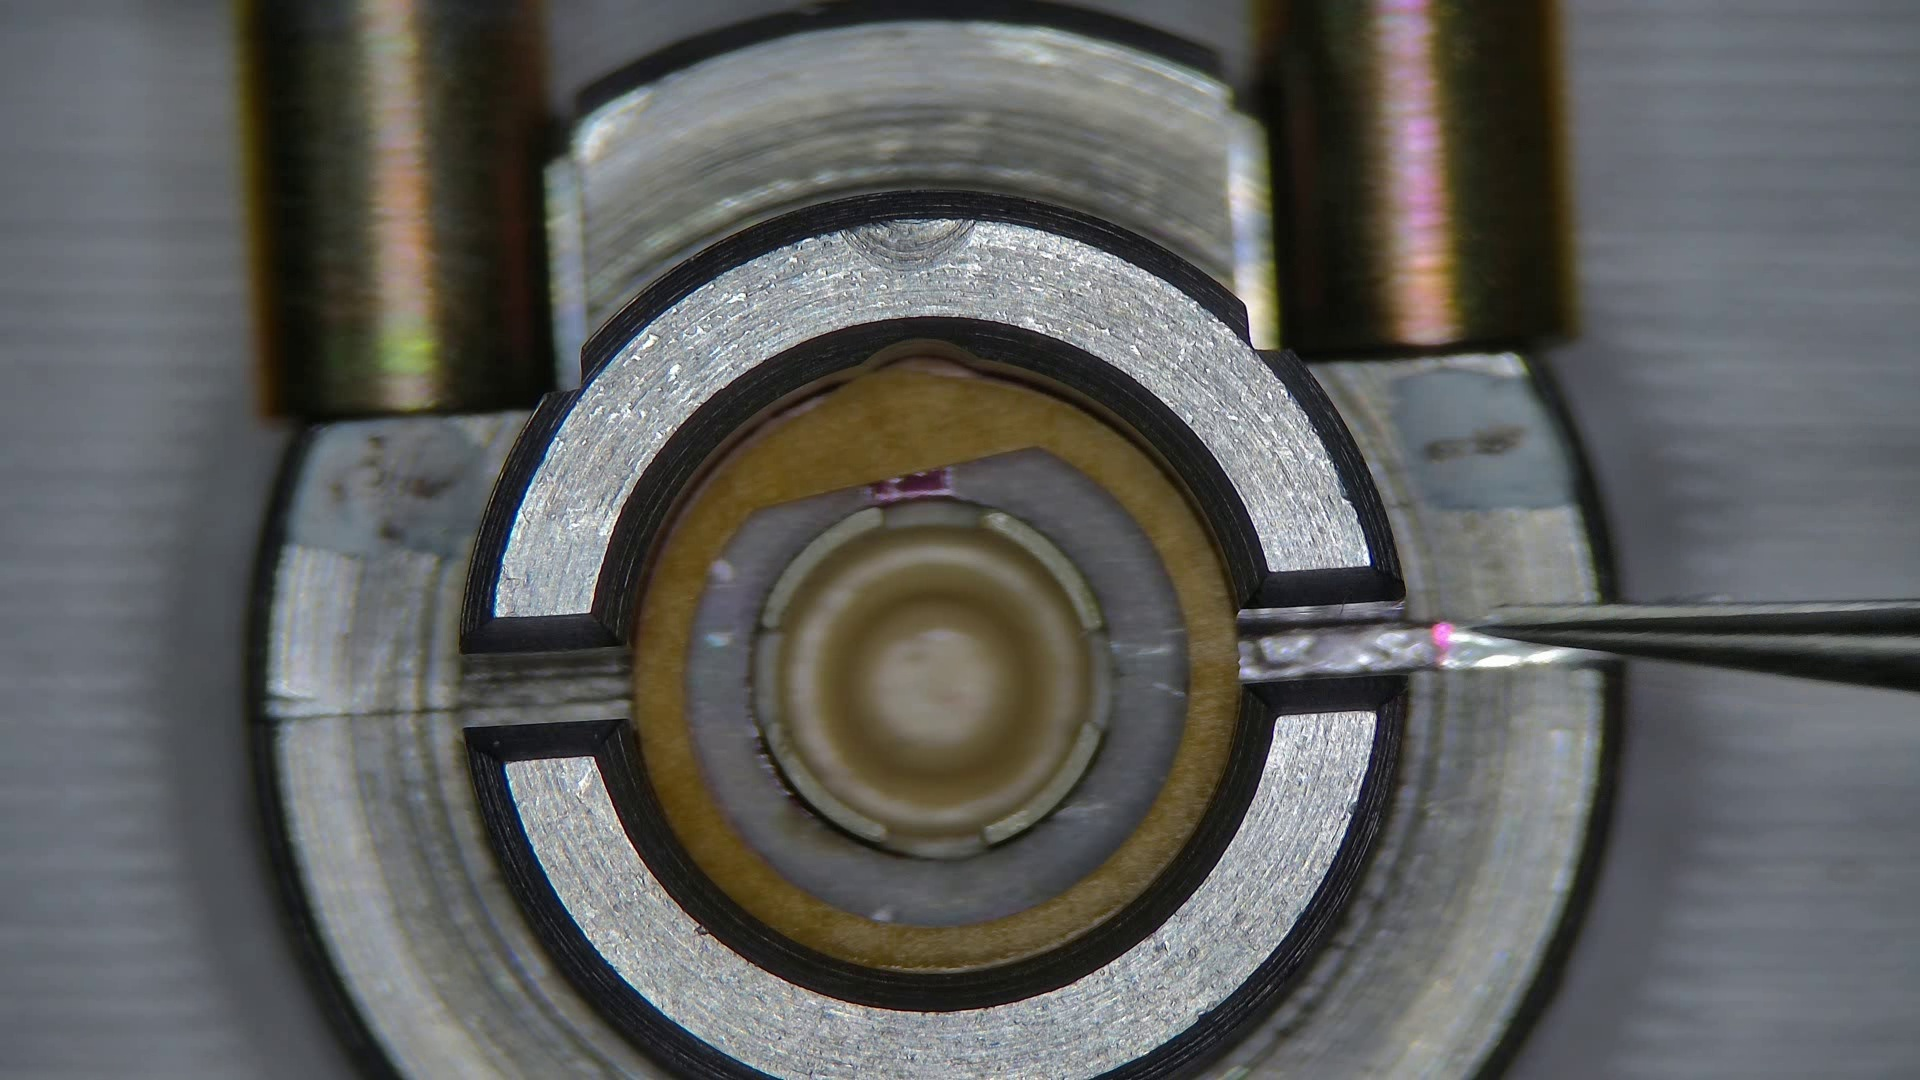YellowOring: (688, 447, 1185, 924)
redOring: (636, 359, 1238, 967)
